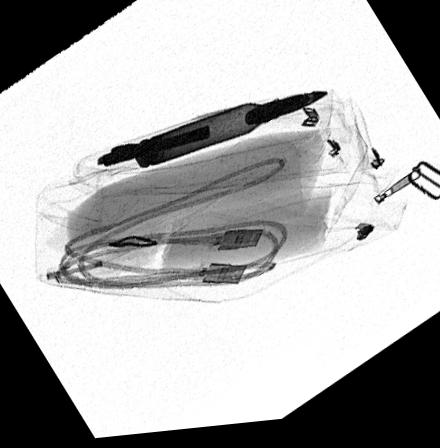Bullet: (133, 96, 328, 173)
Gun: (97, 127, 210, 168)
